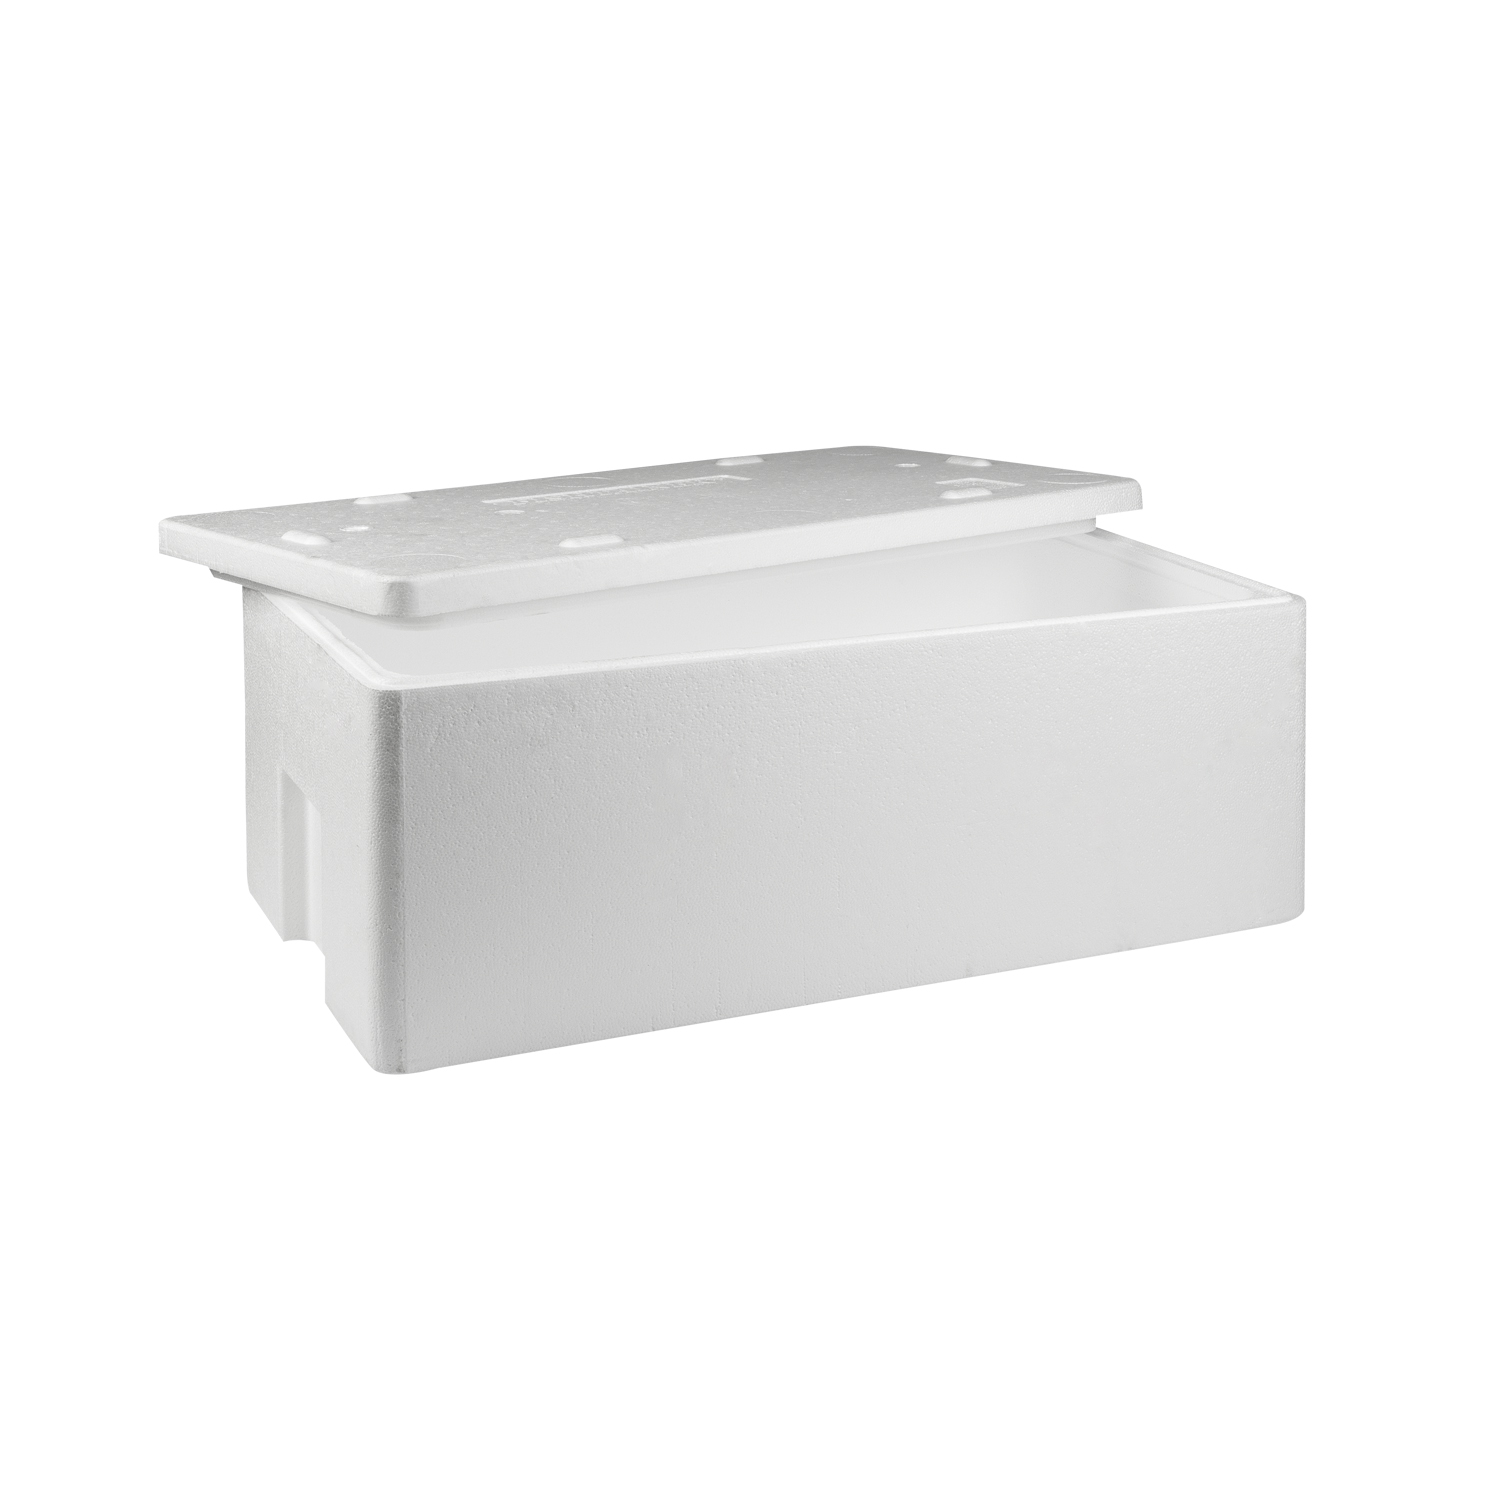Foam Box: (143, 431, 1328, 1087)
